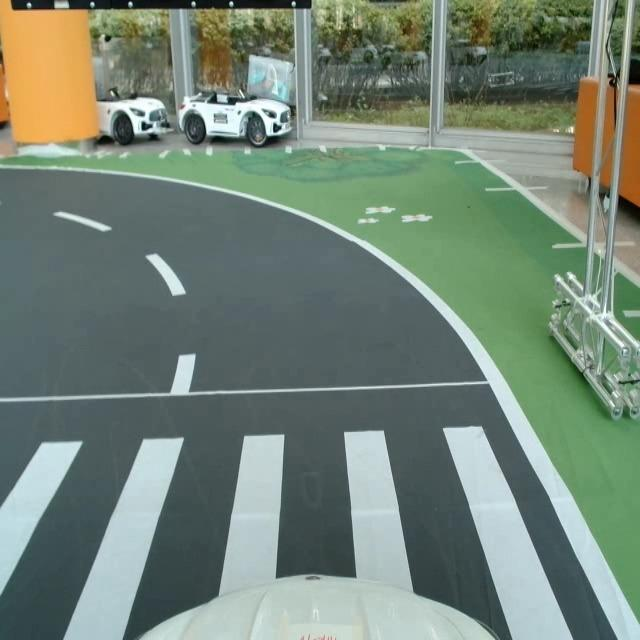traffic-light: (5, 0, 314, 15)
